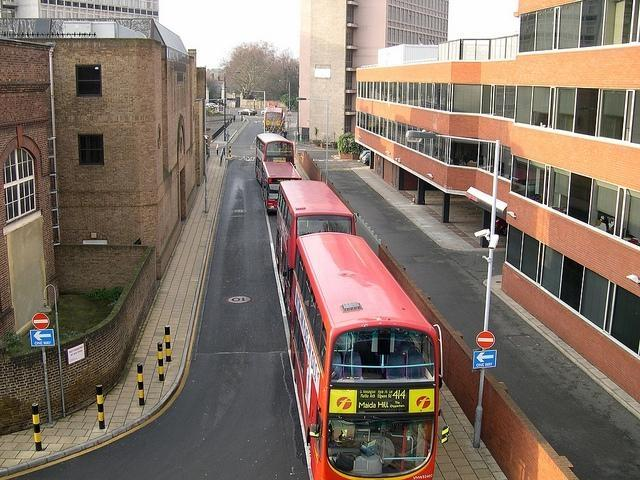bus: (278, 232, 440, 474), (276, 180, 356, 260), (261, 160, 303, 216), (253, 131, 296, 183), (266, 108, 284, 131)
car: (238, 108, 256, 116), (362, 153, 370, 166)
